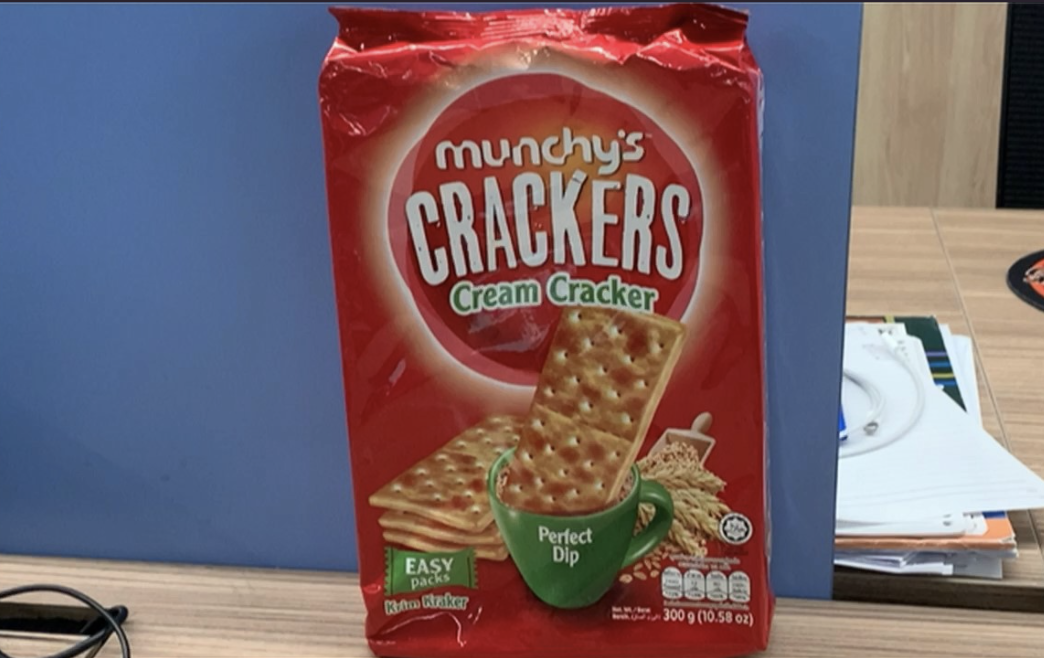crackers_150g: (369, 76, 761, 634)
